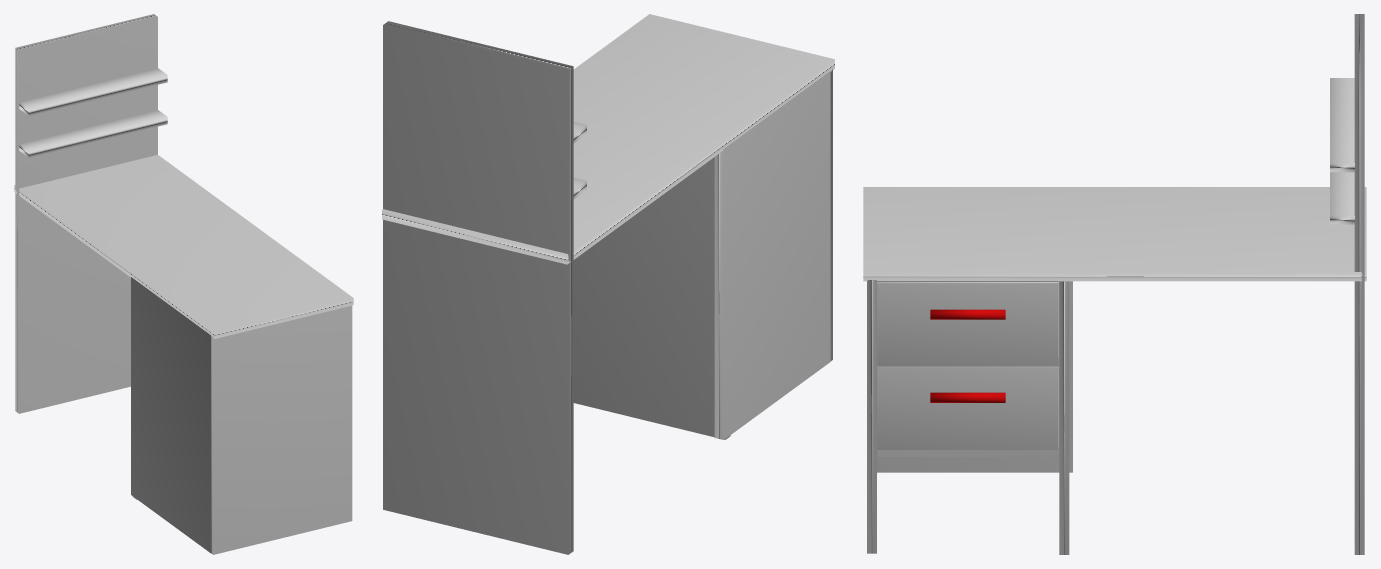
The model's file is nailStationWithDisplay.fbx.
The picture shows the model from 3 angles, left to right: view 1: azimuth 30°, elevation 25°; view 2: azimuth 150°, elevation 25°; view 3: azimuth 270°, elevation 25°; orthographic projection. The views are drawn at different scales.
Visible parts, largest first — view 1: Cube.002, Cube, Cube.003, Cube.004, Cube.010, Cube.011; view 2: Cube.002, Cube.003, Cube.004, Cube.001, Cube; view 3: Cube.003, Cube.007, Cube.008, Cube.002, Cube.004, Cube.001, Cube, Cube.011, Cube.005, Cube.010, Cylinder, Cylinder.001.
Boxes of the visible parts, x1,y1,x2,y2 form: Cube.002: (15, 14, 157, 413); Cube: (211, 305, 352, 554); Cube.003: (14, 155, 353, 338); Cube.004: (131, 277, 211, 553); Cube.010: (19, 110, 167, 157); Cube.011: (19, 68, 167, 115); Cube.002: (383, 21, 573, 554); Cube.003: (382, 14, 834, 264); Cube.004: (714, 71, 830, 439); Cube.001: (573, 157, 730, 439); Cube: (830, 69, 832, 360); Cube.003: (863, 187, 1366, 281); Cube.007: (877, 281, 1058, 366); Cube.008: (877, 366, 1058, 449); Cube.002: (1354, 14, 1364, 554); Cube.004: (877, 281, 1072, 472); Cube.001: (1059, 281, 1069, 554); Cube: (867, 280, 876, 553); Cube.011: (1330, 78, 1354, 172); Cube.005: (877, 367, 1058, 456); Cube.010: (1330, 172, 1354, 224); Cylinder: (930, 309, 1005, 319); Cylinder.001: (930, 392, 1005, 402).
Size of the model in its own units: 212 by 500 by 500.
